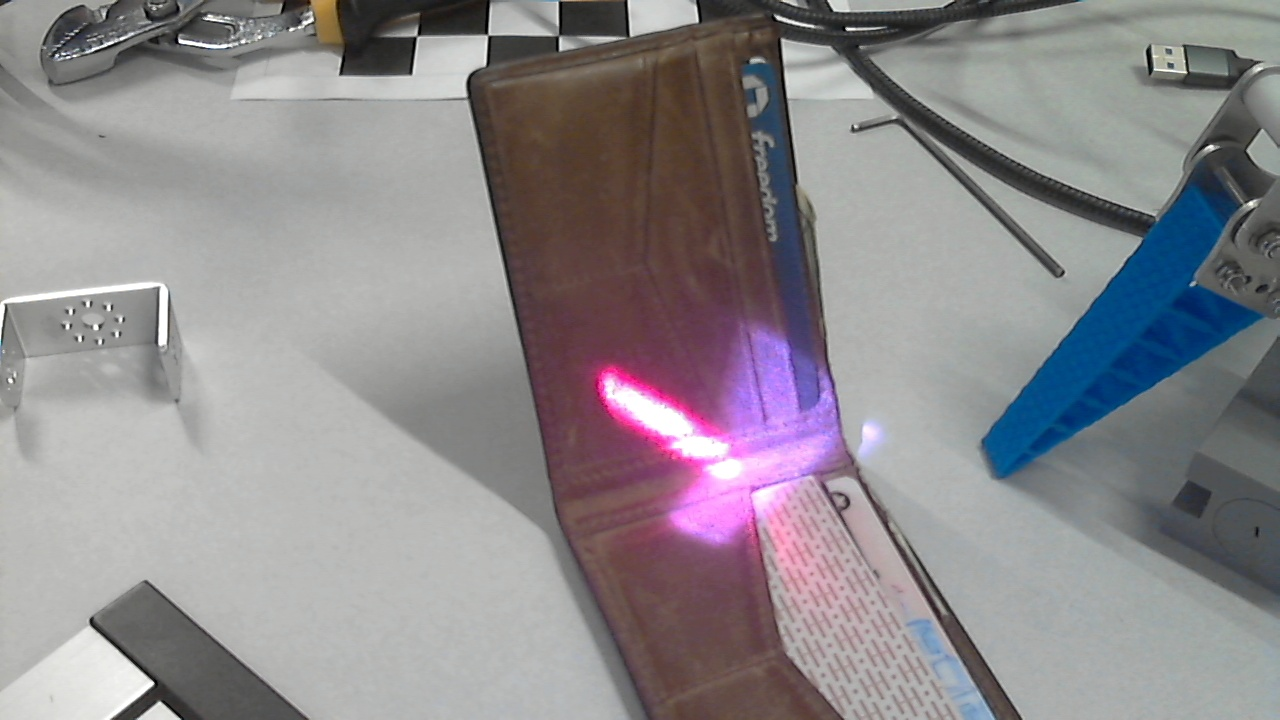Object bifold wallet - Material leather - Pdfname qb3CMu4EyzEc: (590, 250, 822, 582)
